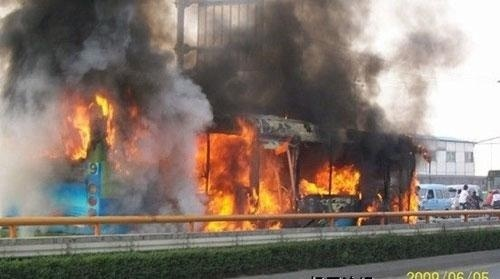fire: (193, 119, 293, 231), (62, 91, 151, 169), (300, 159, 362, 198), (394, 172, 421, 220)
